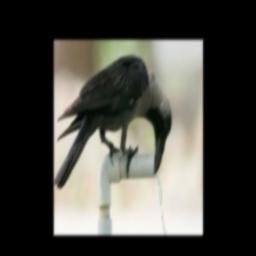Crow: (55, 54, 172, 189)
